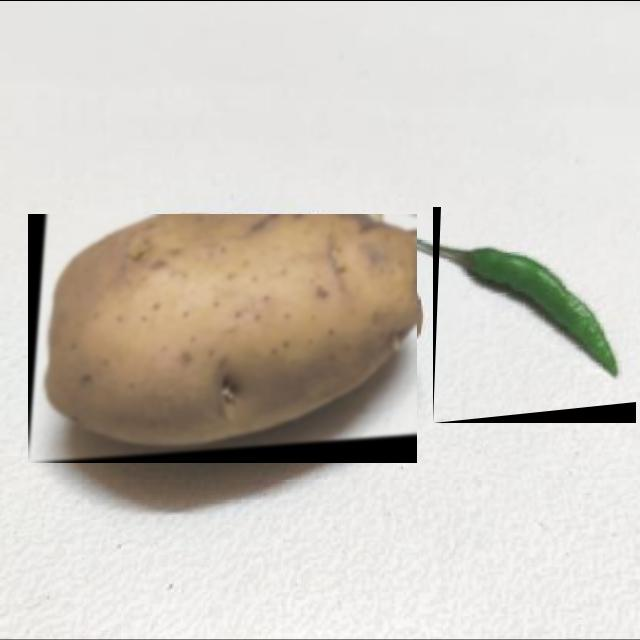Pepper: (433, 206, 636, 422)
potato: (28, 213, 417, 462)
